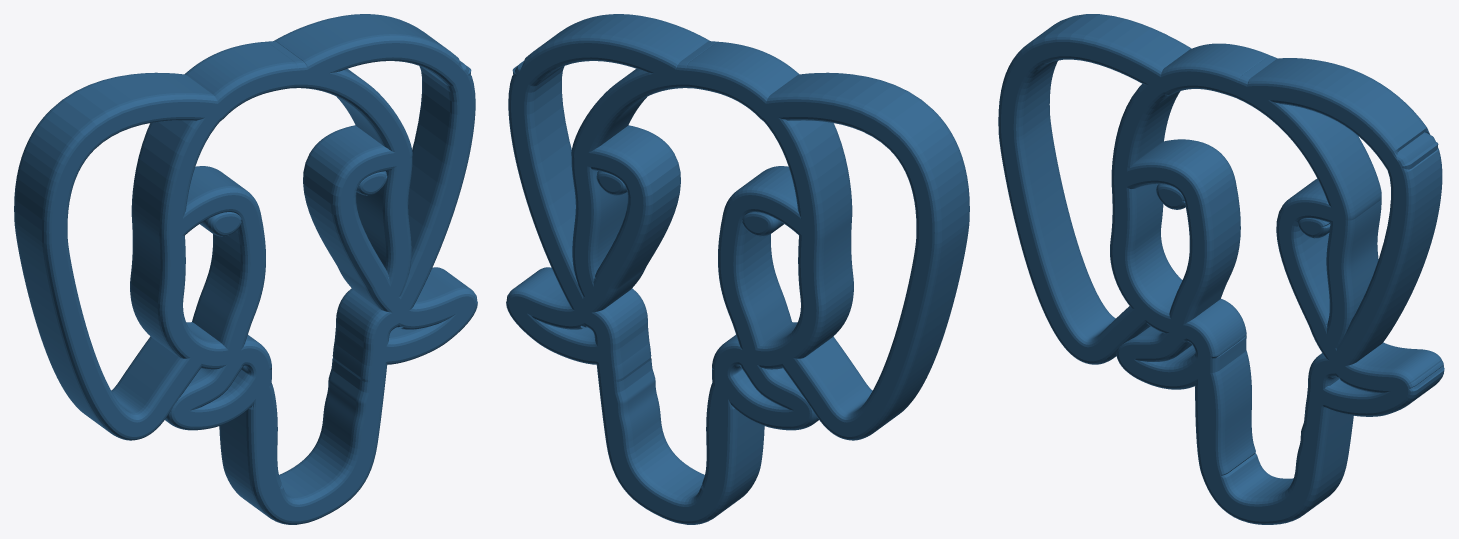
The model's file is postgresql-transformed.glb.
3 renders of one model, left to right at view 1: azimuth 30°, elevation 25°; view 2: azimuth 150°, elevation 25°; view 3: azimuth 330°, elevation 25°, orthographic. The views are drawn at different scales.
Bounding box in the file's own units: 23.77 × 24.6 × 3.3.
